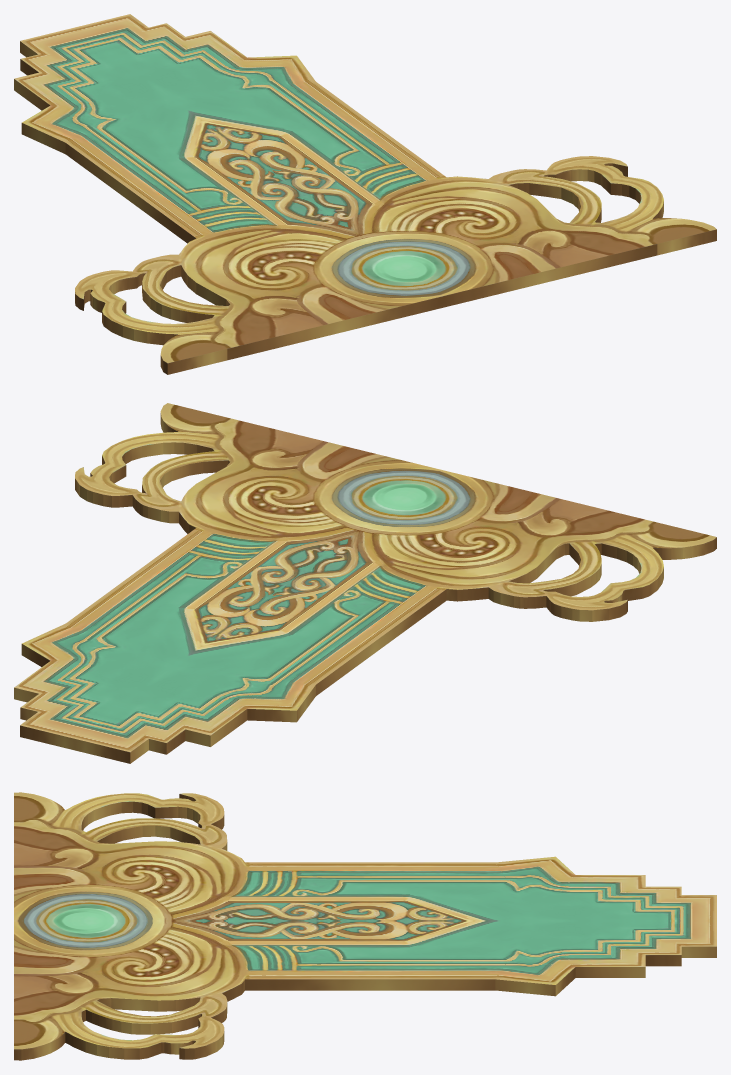
The model's file is W3_HD_GongHuiBoss_dimian_10_02_D.FBX.
3 renders of one model, top to bottom at view 1: azimuth 30°, elevation 25°; view 2: azimuth 150°, elevation 25°; view 3: azimuth 270°, elevation 25°, orthographic. The views are drawn at different scales.
Parts seen in each view (by area): view 1: W3_HD_GongHuiBoss_dimian_10_02_D; view 2: W3_HD_GongHuiBoss_dimian_10_02_D; view 3: W3_HD_GongHuiBoss_dimian_10_02_D.
Part boxes in pixels (x1,y1,x2,y2): W3_HD_GongHuiBoss_dimian_10_02_D: (14,14,716,374); W3_HD_GongHuiBoss_dimian_10_02_D: (14,403,716,763); W3_HD_GongHuiBoss_dimian_10_02_D: (14,792,716,1060).
Size of the model in its own units: 19.35 by 0.3913 by 22.37.
